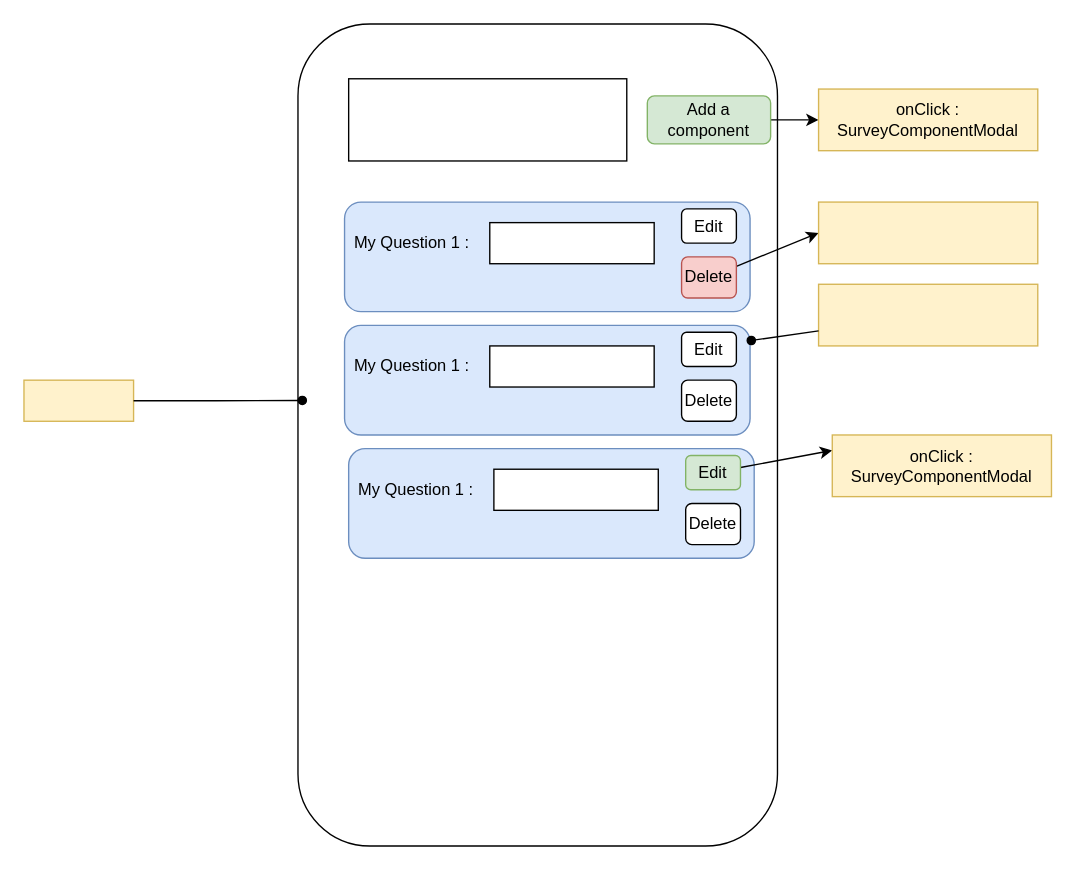
Some shapes in this 1075 by 870 pixel diagram are drawn without their labels. The shapes that lost their labels are listed below. From the top down, each one's box as (x1, y1, x2, y2) in pixels, then its label:
(347, 77, 627, 161): Survey : My Survey Responsible : John Doe
(817, 201, 1038, 264): onClick : Modal AreYouSure
(817, 283, 1038, 346): SurveyComponentEditor
(23, 379, 134, 421): SurveyEditor
